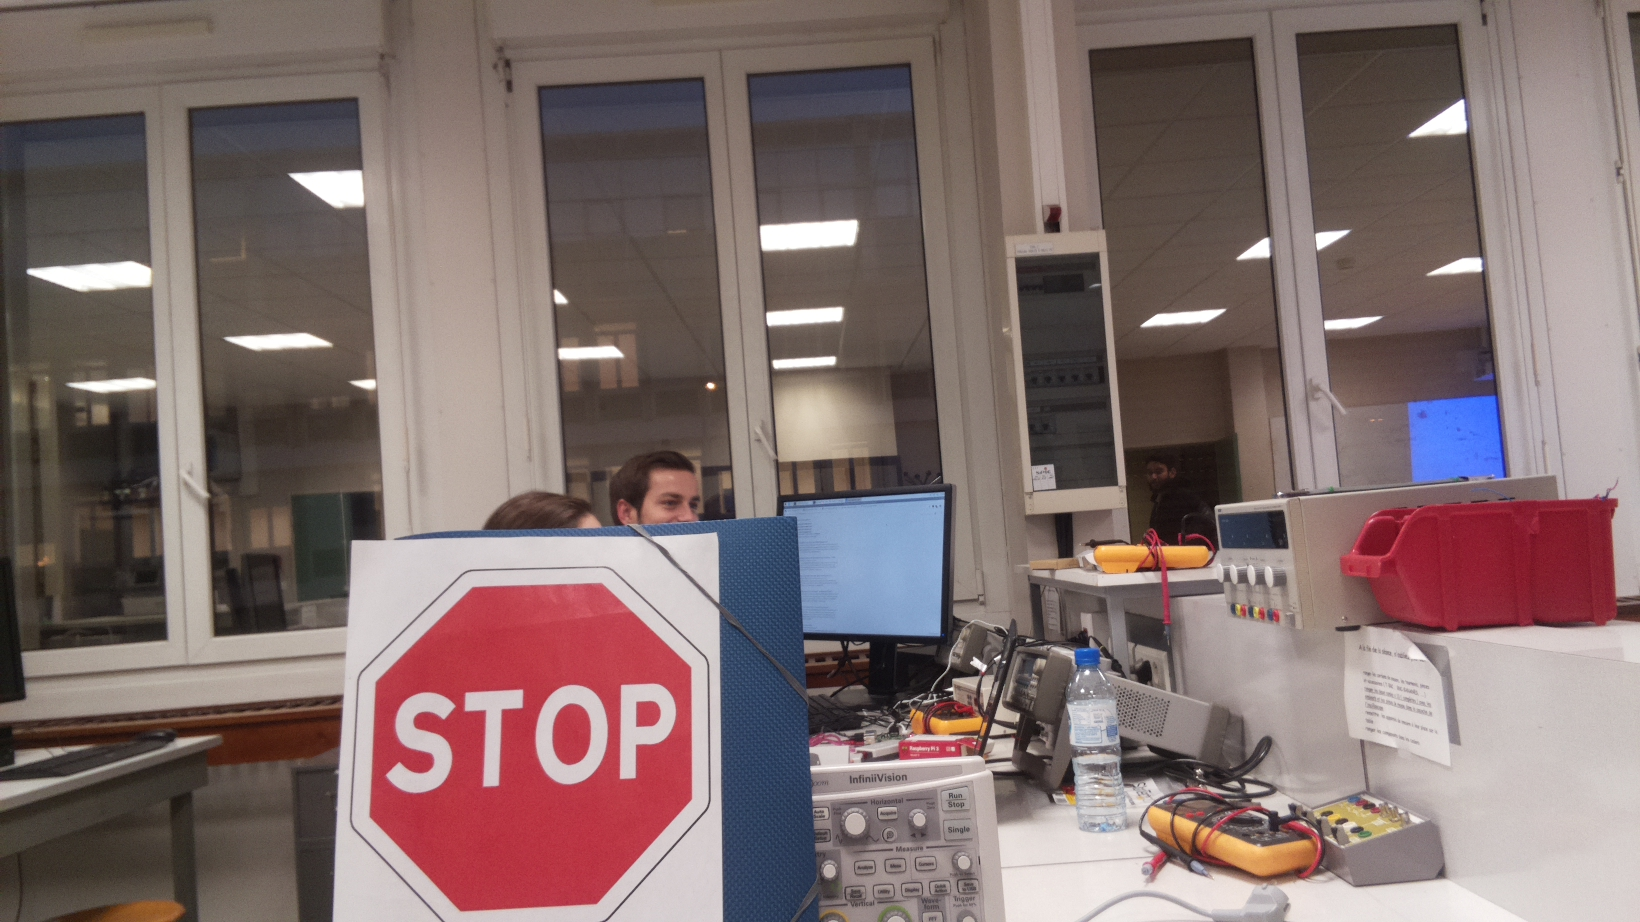stop: (358, 565, 713, 922)
